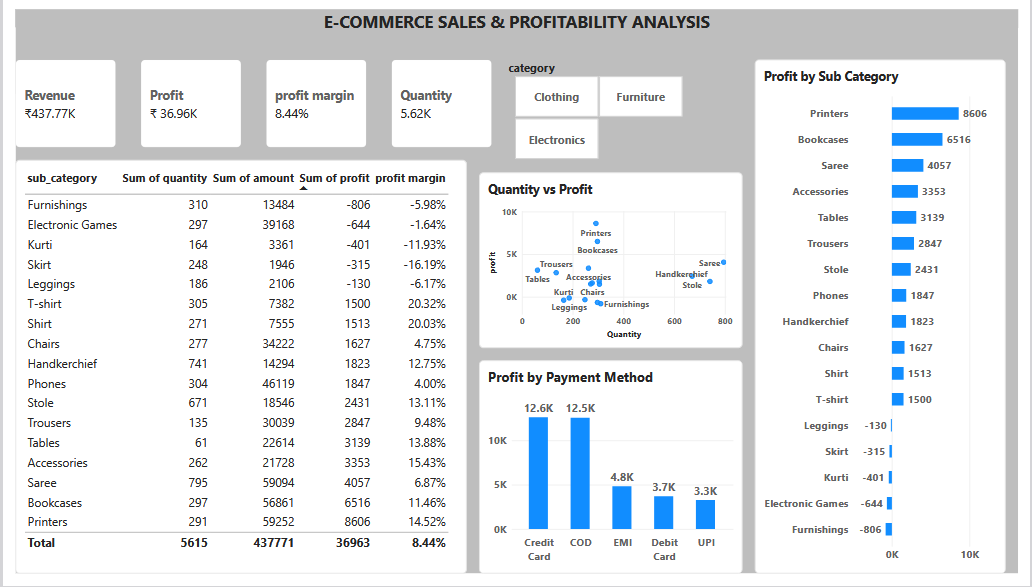

This screenshot's page, from the dashboard's own definition file:
{"tool":"powerbi","page":{"name":"Page 1","canvas":[1920,1080],"ordinal":0},"visuals":[{"type":"cardVisual","fields":{"Data":["Sum(Details_cleaned.profit)"]},"box":[240,96,192,168],"z":0},{"type":"cardVisual","fields":{"Data":["Sum(Details_cleaned.amount)"]},"box":[0,96,192,168],"z":1},{"type":"cardVisual","fields":{"Data":["Details_cleaned.profit margin"]},"box":[480,96,192,168],"z":6},{"type":"cardVisual","fields":{"Data":["Sum(Details_cleaned.quantity)"]},"box":[720,96,192,168],"z":8},{"type":"scatterChart","title":"Quantity vs Profit","fields":{"Category":["Details_cleaned.sub_category"],"X":["Sum(Details_cleaned.quantity)"],"Y":["Sum(Details_cleaned.profit)"]},"box":[888,312,504,336],"z":10},{"type":"tableEx","fields":{"Values":["Details_cleaned.sub_category","Sum(Details_cleaned.quantity)","Sum(Details_cleaned.amount)","Sum(Details_cleaned.profit)","Details_cleaned.profit margin"]},"box":[0,288,864,792],"z":11},{"type":"clusteredColumnChart","title":"Profit by Payment Method","fields":{"Category":["Details_cleaned.payment_mode"],"Y":["Sum(Details_cleaned.profit)"]},"box":[888,672,504,408],"z":12},{"type":"clusteredBarChart","title":"Profit by Sub Category","fields":{"Category":["Details_cleaned.sub_category"],"Y":["Sum(Details_cleaned.profit)"]},"box":[1416,96,480,984],"z":13},{"type":"slicer","fields":{"Values":["Details_cleaned.category"]},"box":[936,96,360,192],"z":14},{"type":"textbox","box":[96,0,1728,96],"z":15}]}

Visuals, with their boxes in screenshot pixels (x1, y1, x2, y2), scaled from the page's 1920x1080 canvas onto the 1032x587 screenshot:
cardVisual - Sum(Details_cleaned.profit): {"left": 129, "top": 52, "right": 232, "bottom": 143}
cardVisual - Sum(Details_cleaned.amount): {"left": 0, "top": 52, "right": 103, "bottom": 143}
cardVisual - Details_cleaned.profit margin: {"left": 258, "top": 52, "right": 361, "bottom": 143}
cardVisual - Sum(Details_cleaned.quantity): {"left": 387, "top": 52, "right": 490, "bottom": 143}
"Quantity vs Profit" scatterChart: {"left": 477, "top": 170, "right": 748, "bottom": 352}
tableEx - Details_cleaned.sub_category x Sum(Details_cleaned.quantity): {"left": 0, "top": 157, "right": 464, "bottom": 586}
"Profit by Payment Method" clusteredColumnChart: {"left": 477, "top": 365, "right": 748, "bottom": 586}
"Profit by Sub Category" clusteredBarChart: {"left": 761, "top": 52, "right": 1019, "bottom": 586}
slicer - Details_cleaned.category: {"left": 503, "top": 52, "right": 697, "bottom": 157}
textbox: {"left": 52, "top": 0, "right": 980, "bottom": 52}
